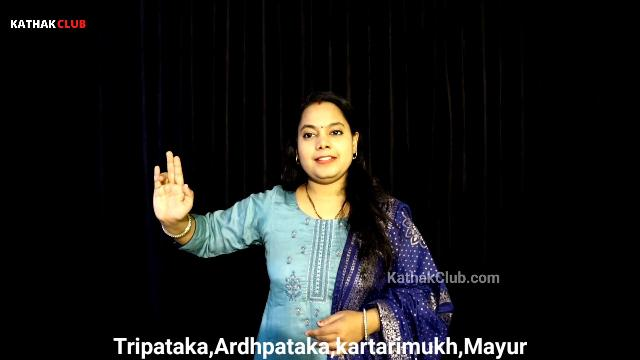tripataka: (131, 140, 223, 272)
